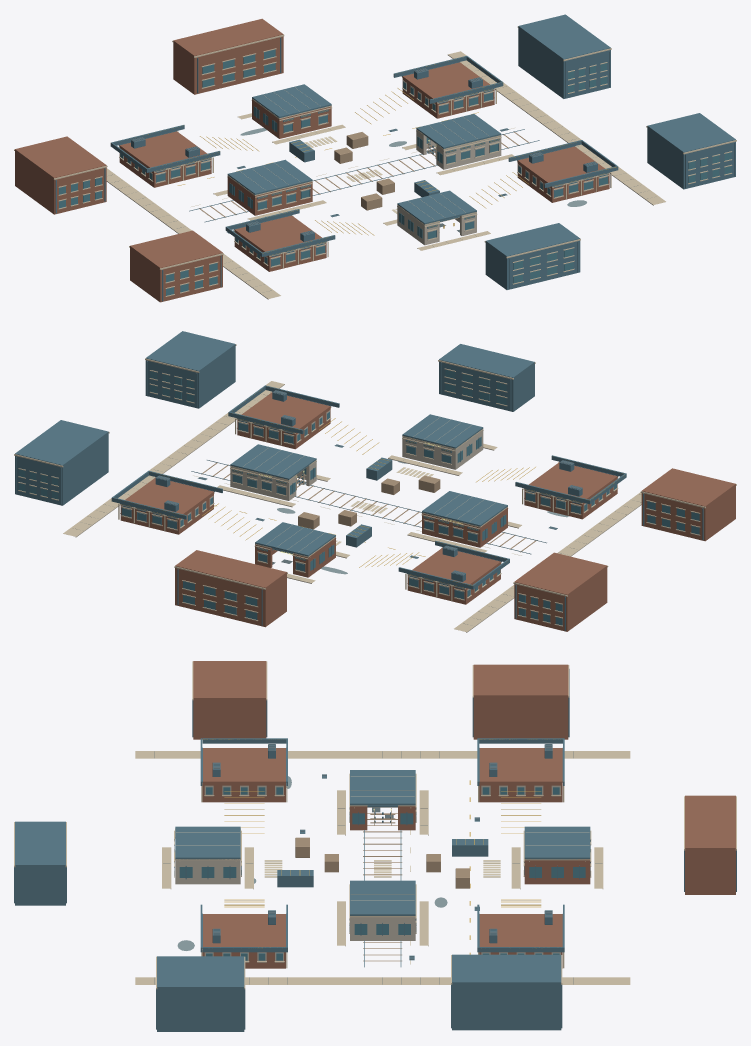
The model's file is switchyard-ward.glb.
The picture shows the model from 3 angles, top to bottom: view 1: azimuth 30°, elevation 25°; view 2: azimuth 150°, elevation 25°; view 3: azimuth 270°, elevation 25°; orthographic projection. The views are drawn at different scales.
Visible parts, largest first — view 1: batched-ward blue-black steel, batched-ward kiln-fired red brick, batched-ward bleached sandstone lintel, batched-ward tinted workshop windows, batched-ward utility concrete, batched-ward freight timber, batched-ward yellow safety enamel; view 2: batched-ward blue-black steel, batched-ward kiln-fired red brick, batched-ward bleached sandstone lintel, batched-ward tinted workshop windows, batched-ward utility concrete, batched-ward freight timber, batched-ward yellow safety enamel, batched-ward oiled street patch; view 3: batched-ward blue-black steel, batched-ward kiln-fired red brick, batched-ward bleached sandstone lintel, batched-ward utility concrete, batched-ward tinted workshop windows, batched-ward freight timber, batched-ward yellow safety enamel, batched-ward weathered crosswalk, batched-ward oiled street patch.
Part boxes in pixels (x1,y1,x2,y2): batched-ward blue-black steel: [55, 14, 735, 301]; batched-ward kiln-fired red brick: [15, 18, 609, 302]; batched-ward bleached sandstone lintel: [14, 26, 736, 298]; batched-ward tinted workshop windows: [59, 49, 731, 295]; batched-ward utility concrete: [106, 55, 653, 299]; batched-ward freight timber: [199, 131, 529, 220]; batched-ward yellow safety enamel: [123, 59, 617, 254]; batched-ward blue-black steel: [15, 331, 703, 630]; batched-ward kiln-fired red brick: [120, 392, 735, 631]; batched-ward bleached sandstone lintel: [14, 344, 736, 632]; batched-ward tinted workshop windows: [19, 369, 699, 625]; batched-ward utility concrete: [75, 384, 641, 632]; batched-ward freight timber: [201, 462, 537, 552]; batched-ward yellow safety enamel: [122, 386, 624, 587]; batched-ward oiled street patch: [75, 390, 640, 624]; batched-ward blue-black steel: [14, 669, 736, 1031]; batched-ward kiln-fired red brick: [193, 661, 735, 968]; batched-ward bleached sandstone lintel: [14, 661, 736, 989]; batched-ward utility concrete: [175, 785, 560, 962]; batched-ward tinted workshop windows: [179, 787, 585, 960]; batched-ward freight timber: [295, 813, 469, 961]; batched-ward yellow safety enamel: [203, 739, 563, 954]; batched-ward weathered crosswalk: [264, 830, 500, 964]; batched-ward oiled street patch: [154, 744, 602, 984].
Size of the model in its own units: 107 by 7.3 by 99.29.
